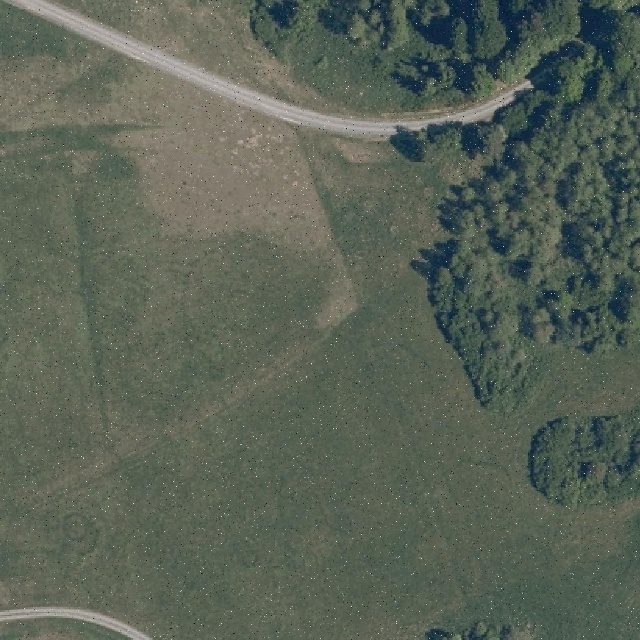vegetation: (269, 0, 640, 412), (532, 415, 640, 506)
